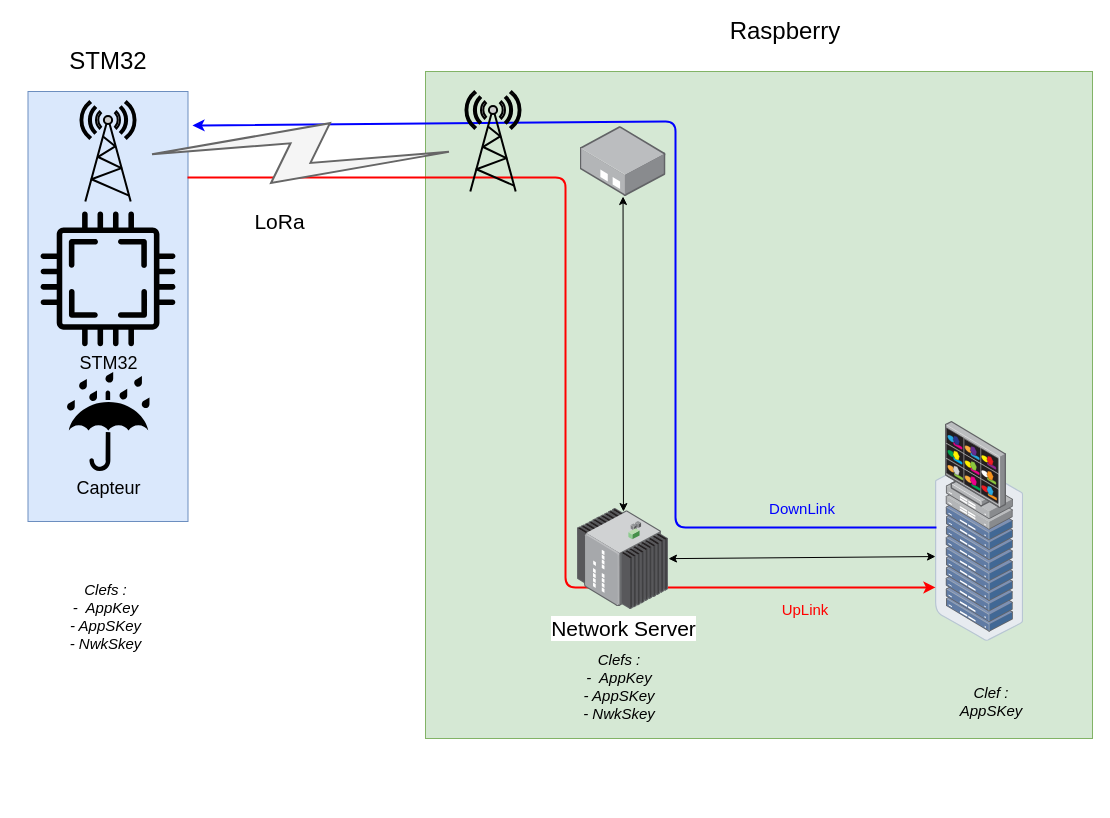
Some shapes in this 1110 by 818 pixel diagram are drawn without their labels. Here are the shapes that lost their labels. From the top down, the box of each, then its label:
(580, 126, 666, 196): Passerelle
(935, 462, 1023, 641): Application Server
